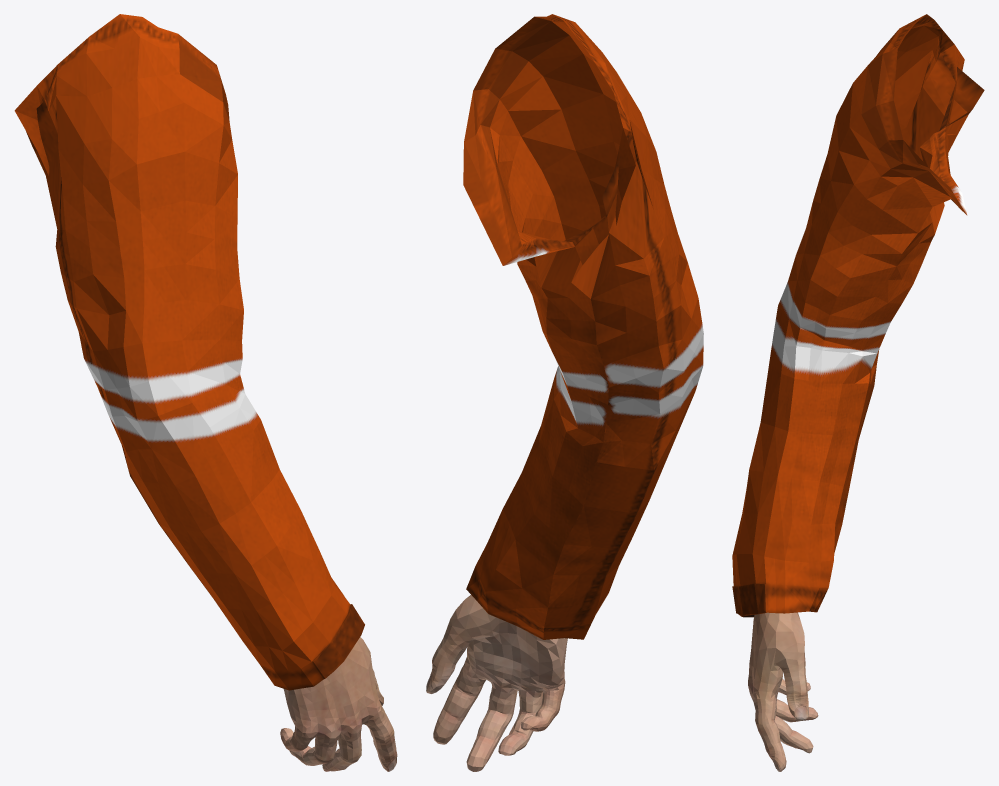
The model's file is jeff_right_arm.dae.
3 renders of one model, left to right at view 1: azimuth 30°, elevation 25°; view 2: azimuth 150°, elevation 25°; view 3: azimuth 270°, elevation 25°, orthographic. The views are drawn at different scales.
Parts seen in each view (by area): view 1: Object002; view 2: Object002; view 3: Object002.
Part boxes in pixels (<box>): Object002: <box>14,14,397,771</box>; Object002: <box>426,14,703,771</box>; Object002: <box>732,14,984,771</box>.
Size of the model in its own units: 379 by 326 by 963.
2 materials, 2 textured.
